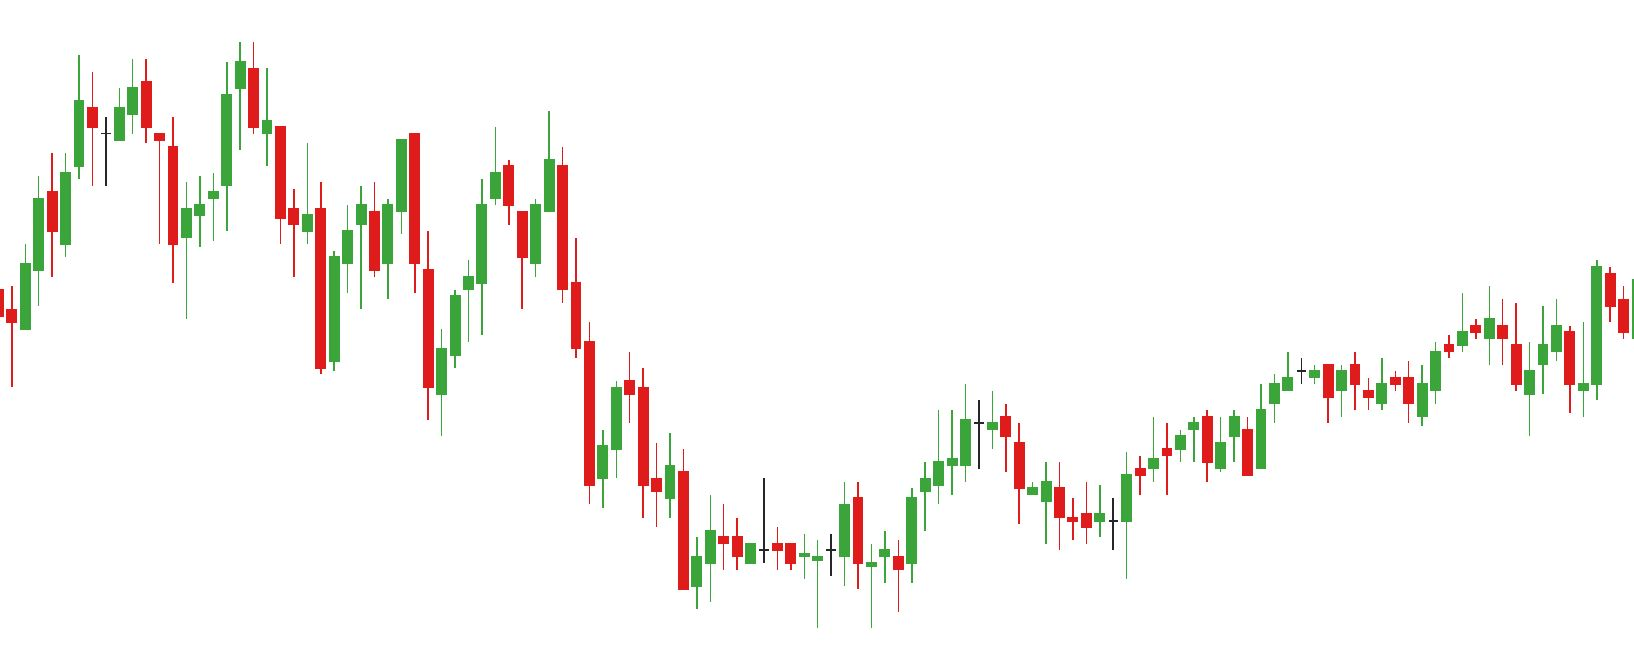buy: (308, 230, 451, 445), (1415, 340, 1538, 447)
sell: (140, 36, 263, 185), (485, 94, 573, 262)
